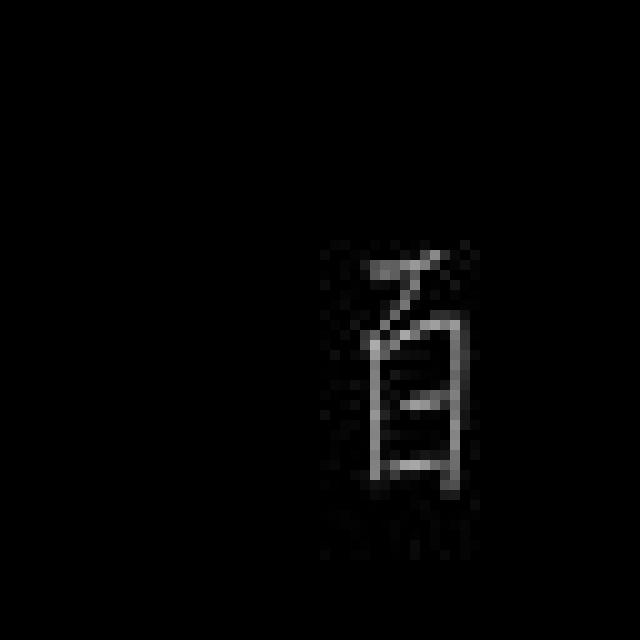100 -a hundred-: (347, 233, 477, 500)
